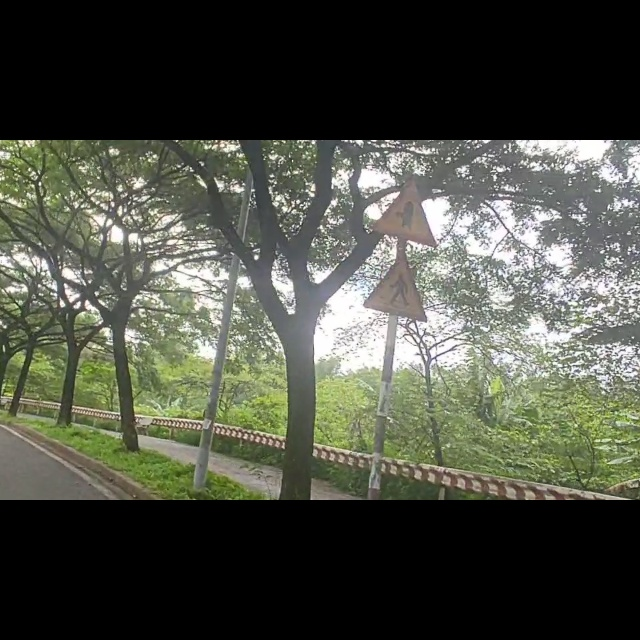bien_nguy_hiem: (362, 196, 443, 327), (371, 69, 447, 197)
